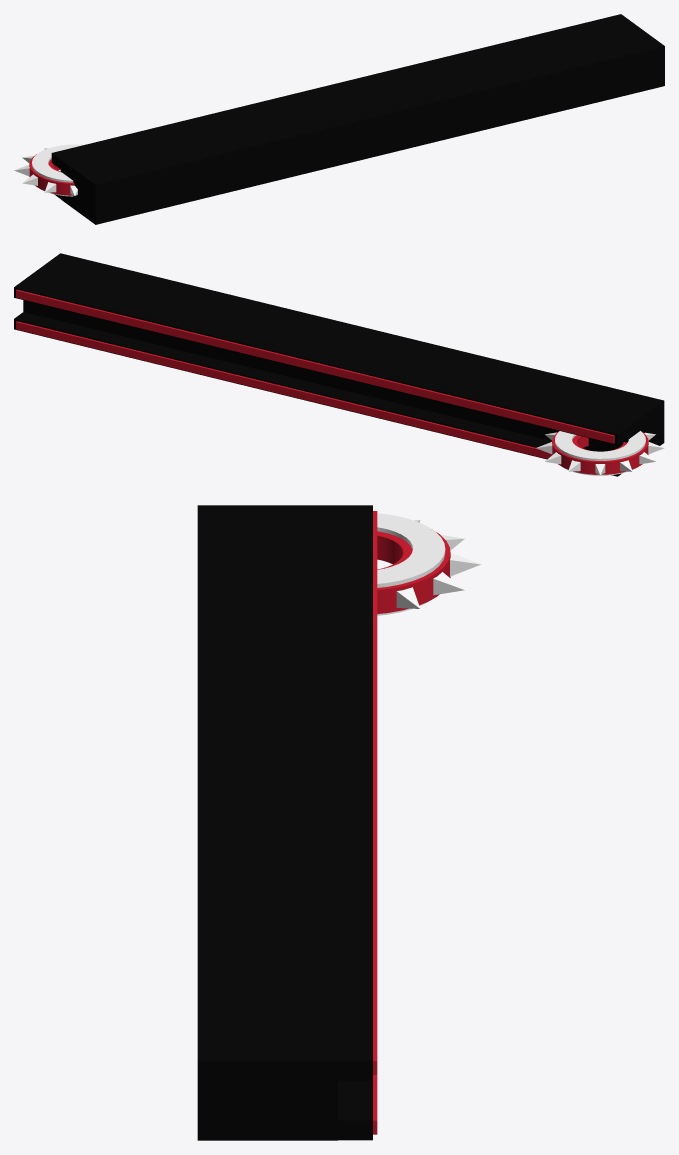
The model's file is Scile.fbx.
3 views of the same model, one above another, from view 1: azimuth 30°, elevation 25°; view 2: azimuth 150°, elevation 25°; view 3: azimuth 270°, elevation 25° (orthographic). The views are drawn at different scales.
Visible parts, largest first — view 1: Cube_1, Cube, Cube_4, Tube_1, Tube; view 2: Cube_1, Cube, Cube_4, Cube_3, Cube_5, Tube_1, Tube; view 3: Cube_1, Cube, Cube_4, Tube_1, Cube_3, Tube.
Part boxes in pixels (x1,y1,x2,y2): Cube_1: (51,14,664,194); Cube: (60,55,664,224); Cube_4: (54,76,664,224); Tube_1: (32,144,83,196); Tube: (29,154,74,195); Cube_1: (14,253,664,444); Cube: (23,300,664,451); Cube_4: (14,312,664,476); Cube_3: (16,289,614,443); Cube_5: (16,321,551,458); Tube_1: (555,431,645,475); Tube: (552,431,648,474); Cube_1: (197,505,372,1080); Cube: (197,1077,337,1140); Cube_4: (197,1080,372,1140); Tube_1: (377,513,445,615); Cube_3: (373,511,377,1074); Tube: (377,531,450,613).
Bounding box in the file's own units: 1587 × 100 × 324.
